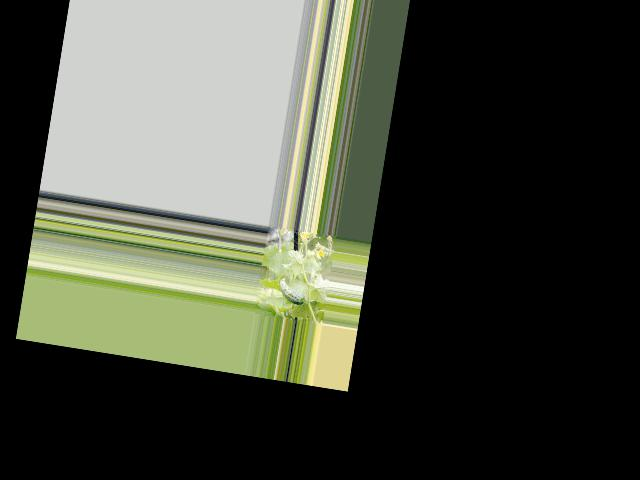cucumber: (276, 276, 308, 305)
